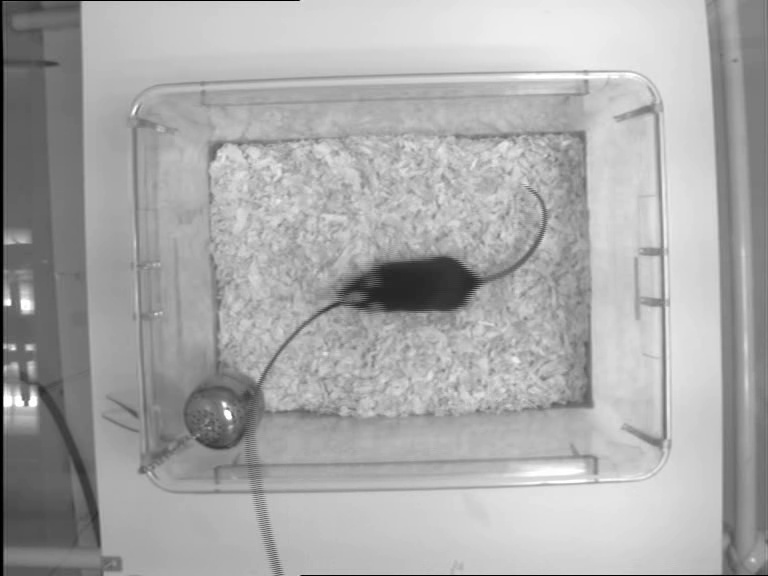mice: (338, 185, 548, 313)
